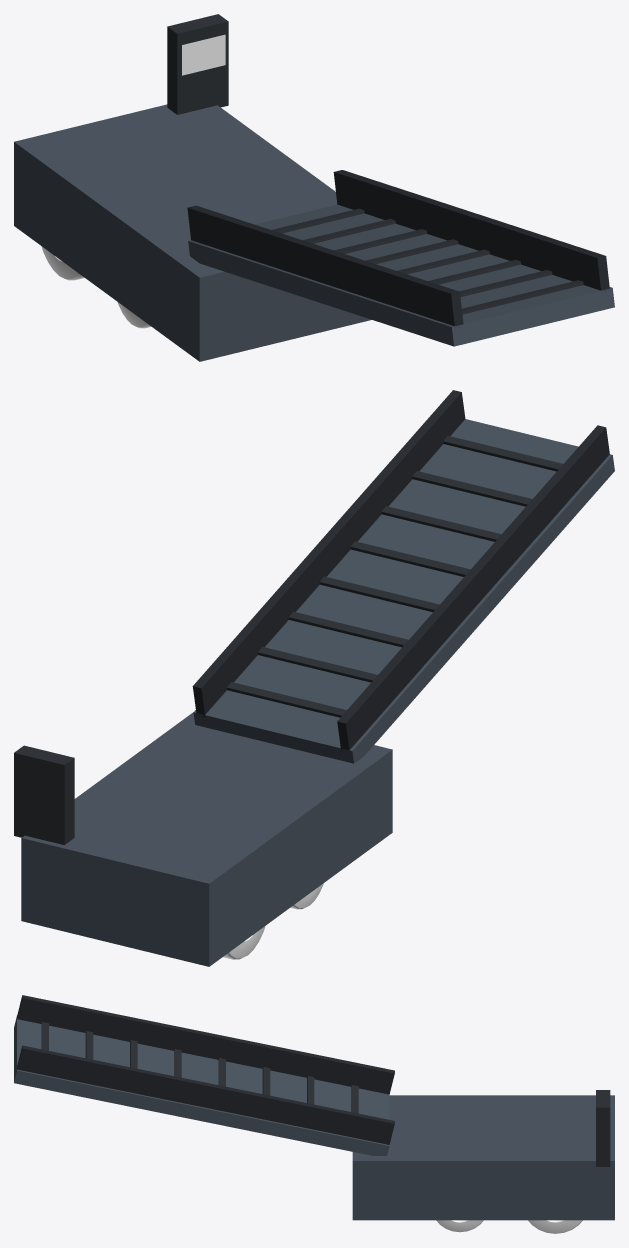
File: equipment--cargoBeltLoader.glb
3 views of the same model, one above another, from view 1: azimuth 30°, elevation 25°; view 2: azimuth 150°, elevation 25°; view 3: azimuth 270°, elevation 25° (orthographic). The views are drawn at different scales.
Visible parts, largest first — view 1: cargoBeltLoader:shell, beltRamp, controlPanel, wheels; view 2: beltRamp, cargoBeltLoader:shell, controlPanel; view 3: beltRamp, cargoBeltLoader:shell, controlPanel, wheels, wheelsF.
Part boxes in pixels (left/top/right/bottom): cargoBeltLoader:shell: left=14, top=104, right=371, bottom=361; beltRamp: left=187, top=170, right=614, bottom=346; controlPanel: left=167, top=14, right=228, bottom=114; wheels: left=41, top=246, right=84, bottom=280; beltRamp: left=192, top=390, right=614, bottom=763; cargoBeltLoader:shell: left=21, top=712, right=392, bottom=966; controlPanel: left=14, top=745, right=74, bottom=845; beltRamp: left=14, top=995, right=394, bottom=1155; cargoBeltLoader:shell: left=352, top=1095, right=614, bottom=1220; controlPanel: left=596, top=1090, right=610, bottom=1166; wheels: left=528, top=1220, right=582, bottom=1233; wheelsF: left=436, top=1220, right=483, bottom=1232.
Size of the model in its own units: 1.37 by 1.68 by 5.04.
